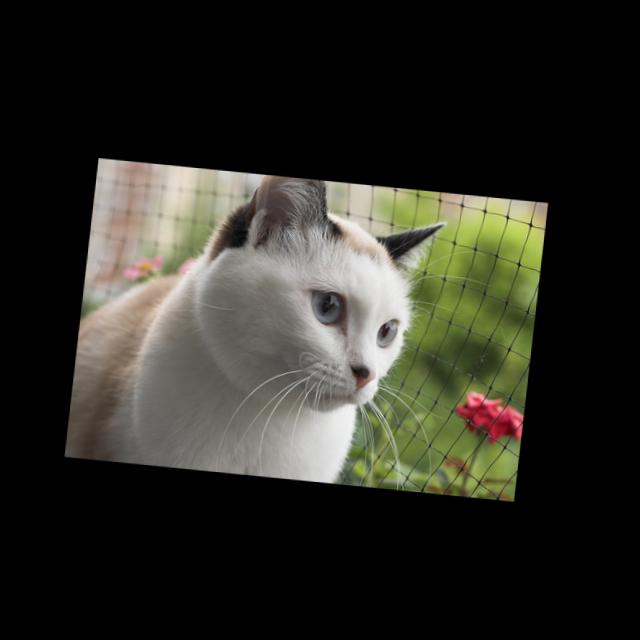animals: (241, 172, 450, 392)
